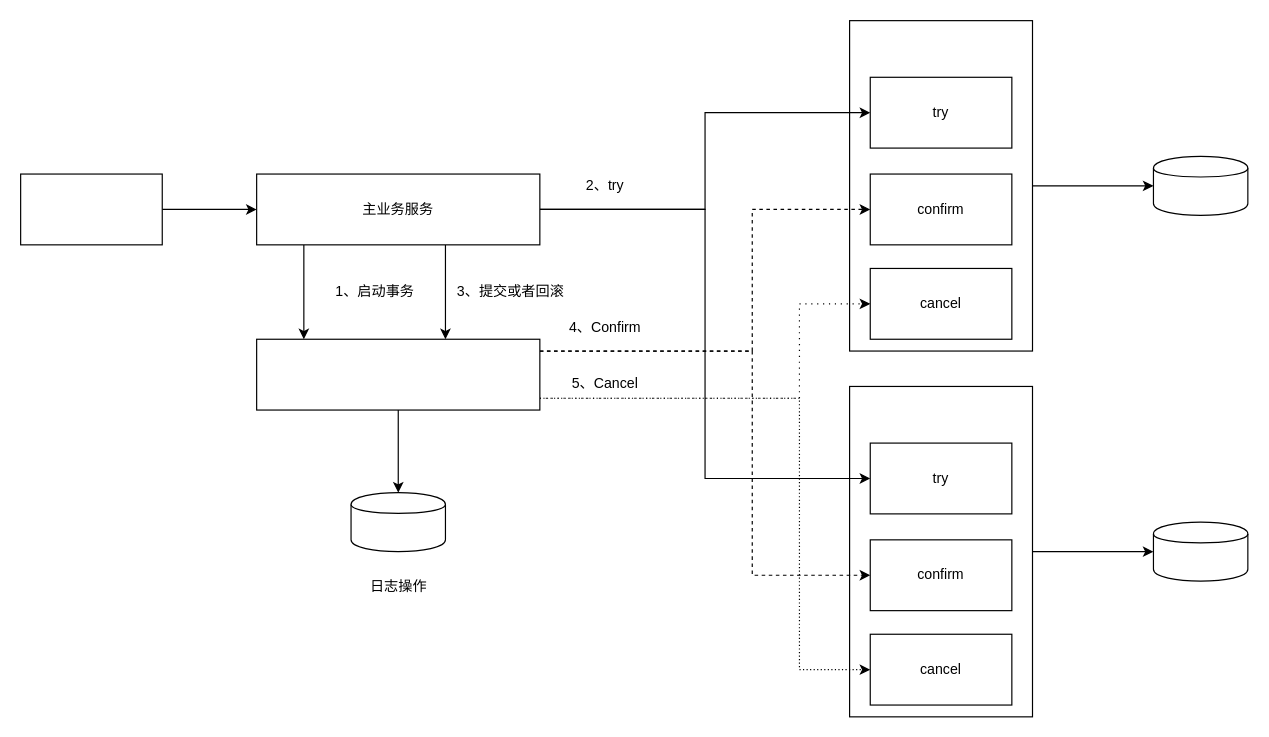
Some shapes in this 1269 by 737 pixel diagram are drawn without their labels. The shapes that lost their labels are listed below. From the top down, each one's box as (x1, y1, x2, y2) in pixels, then its label:
(19, 173, 162, 245): 开始
(255, 338, 540, 410): 事务协调器
